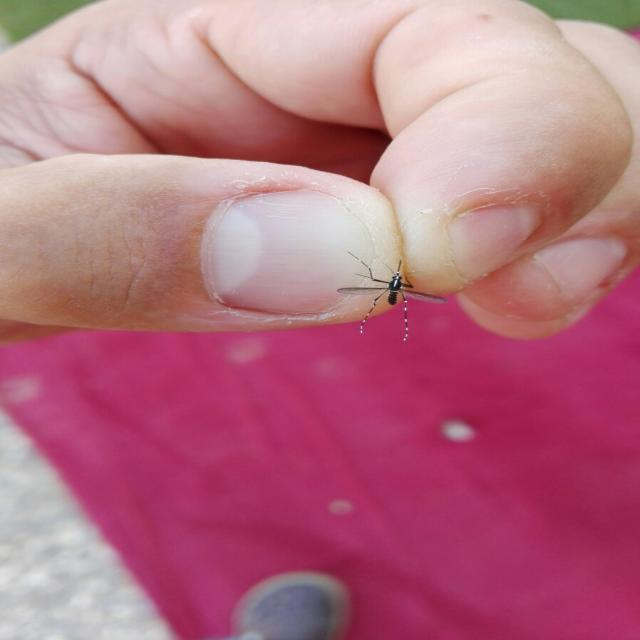albopictus: (324, 249, 454, 342)
